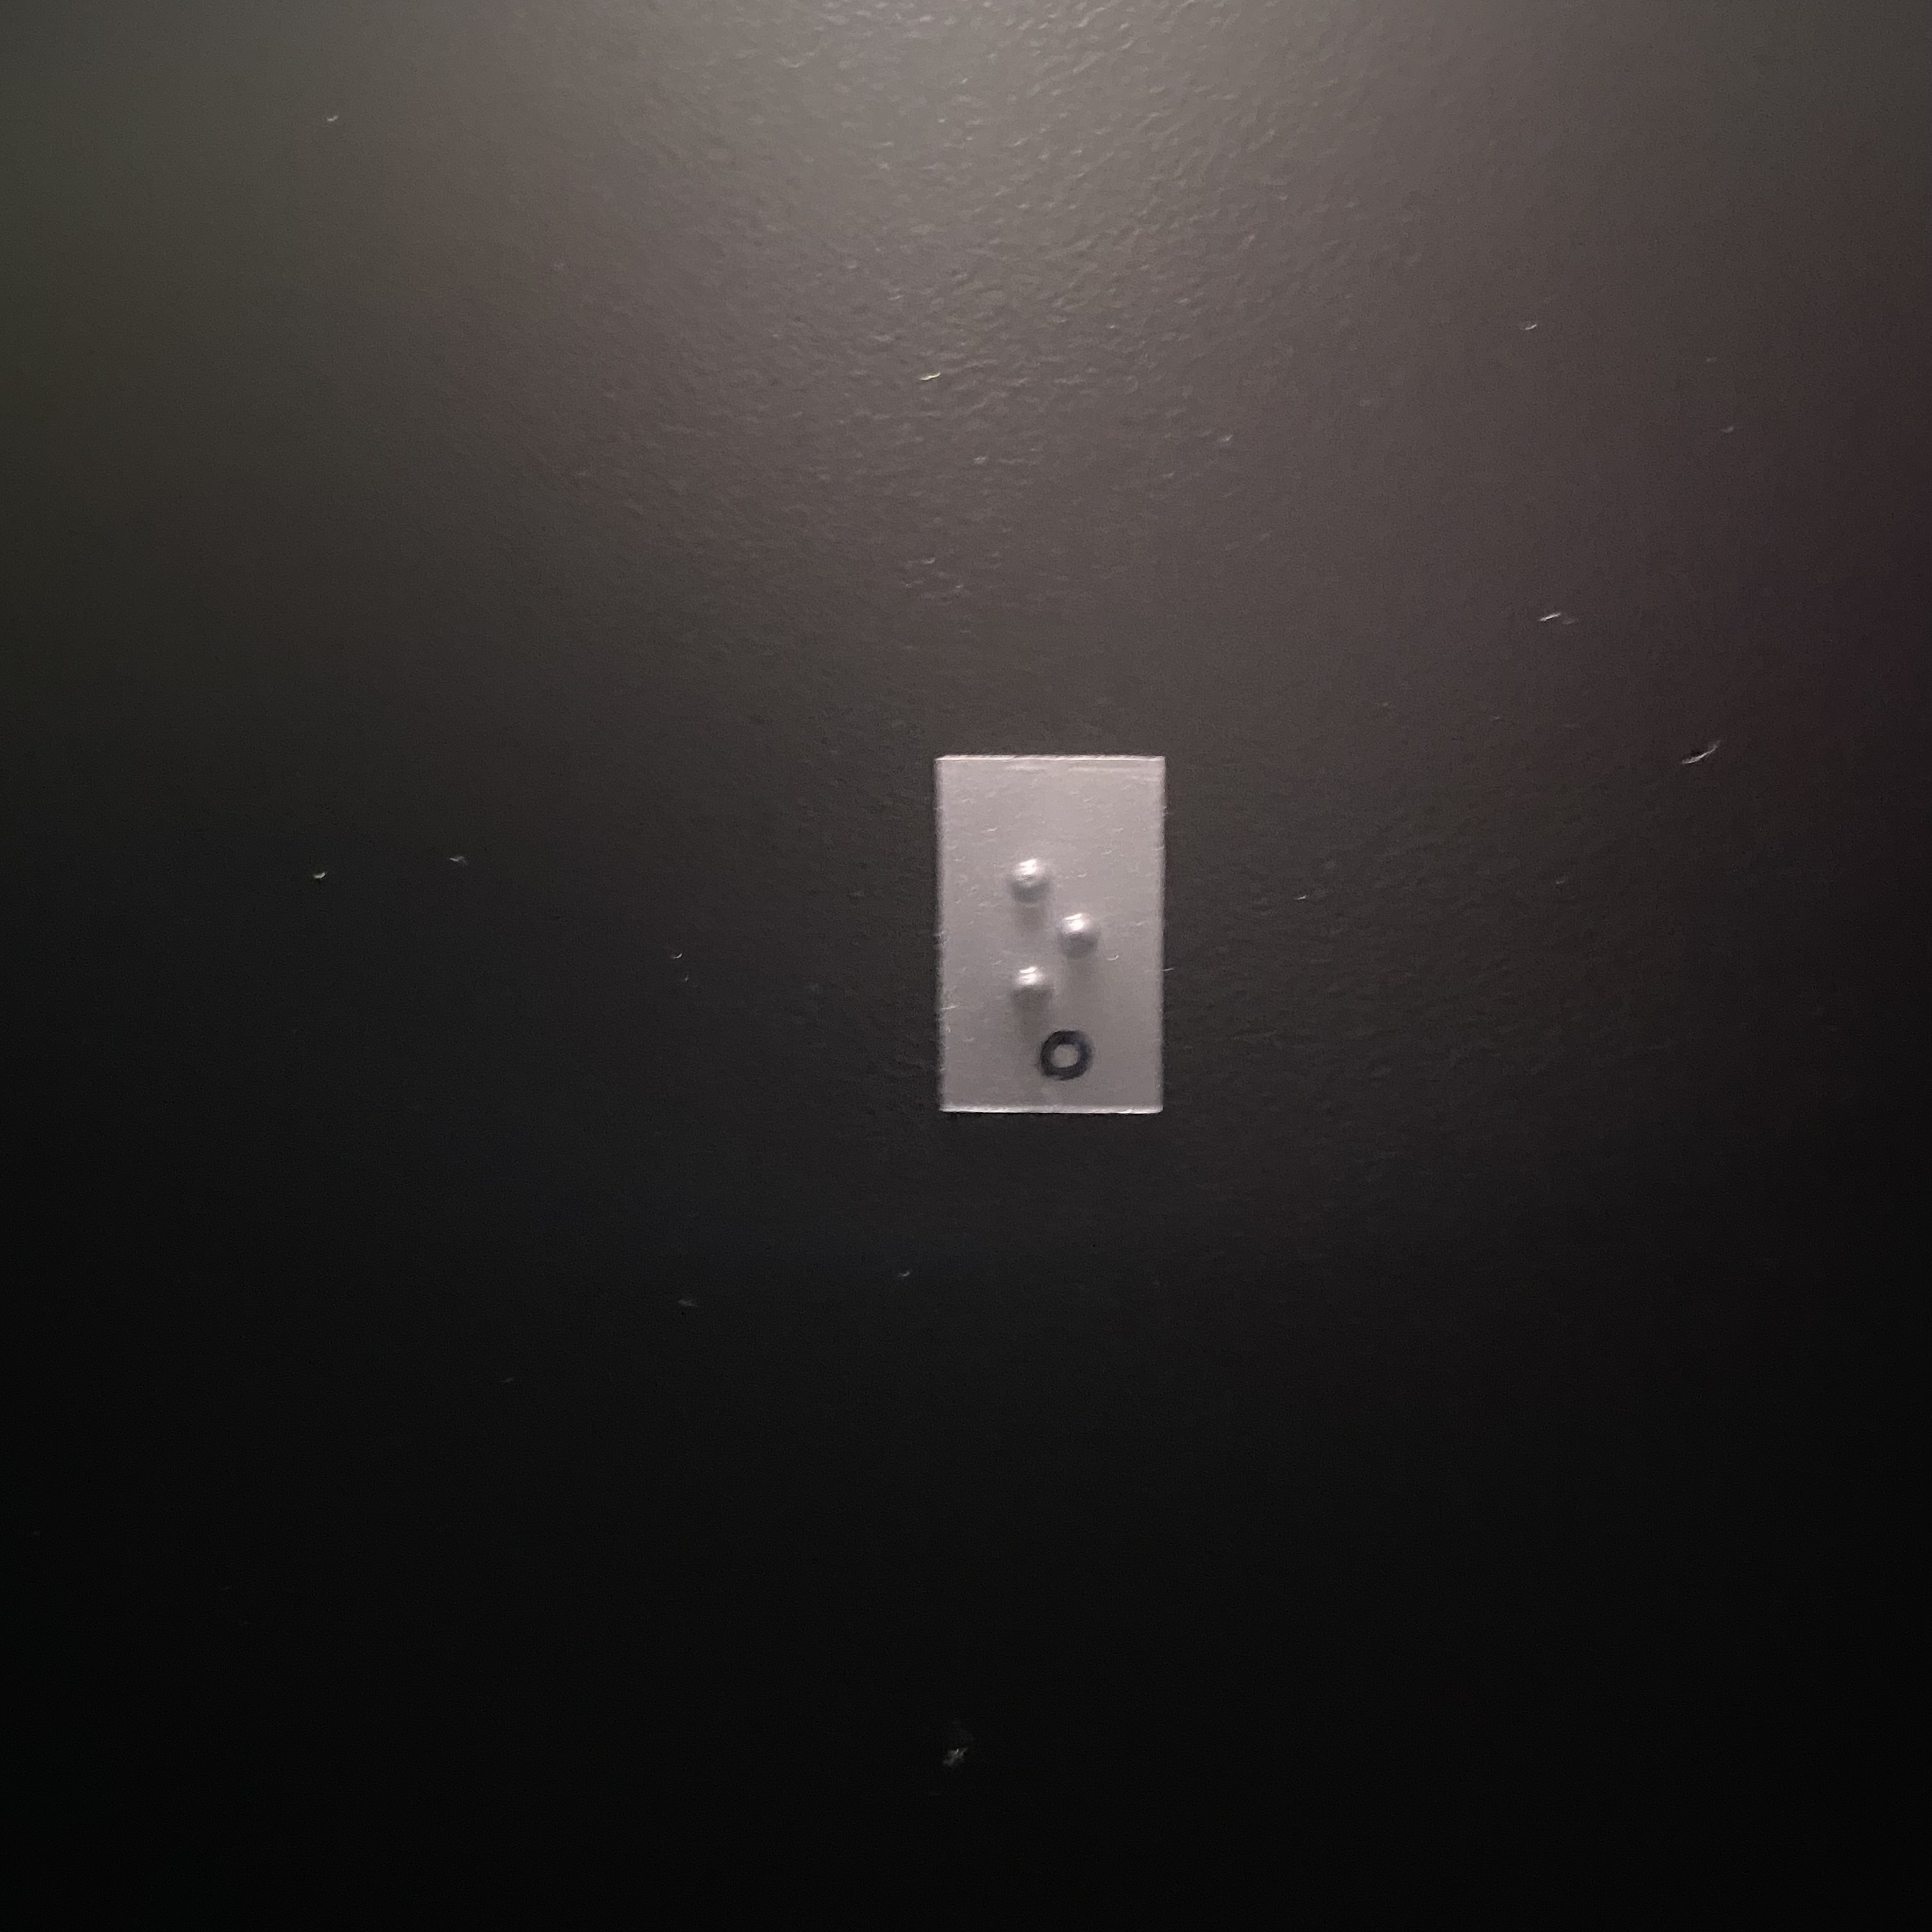o: (996, 846, 1119, 1031)
